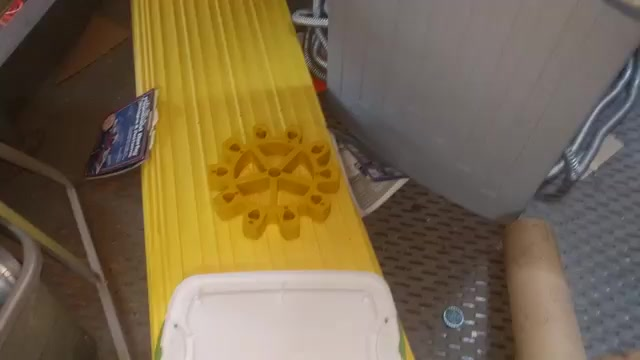gear: (188, 107, 359, 242)
